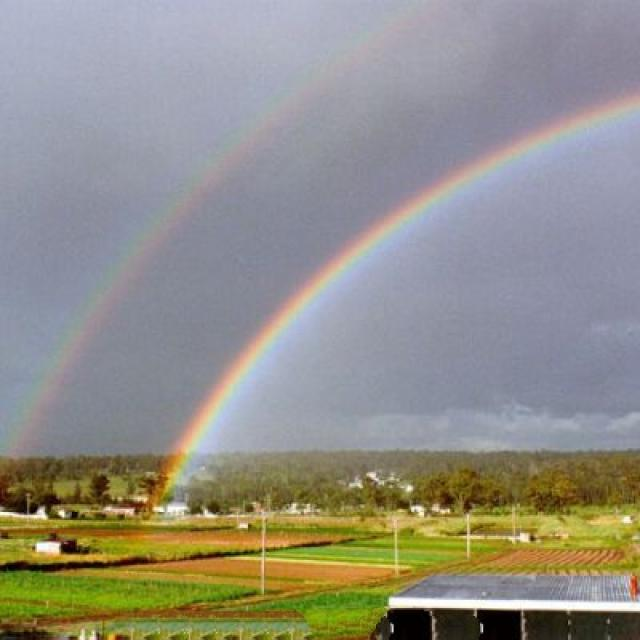Ns: (1, 12, 640, 432)
